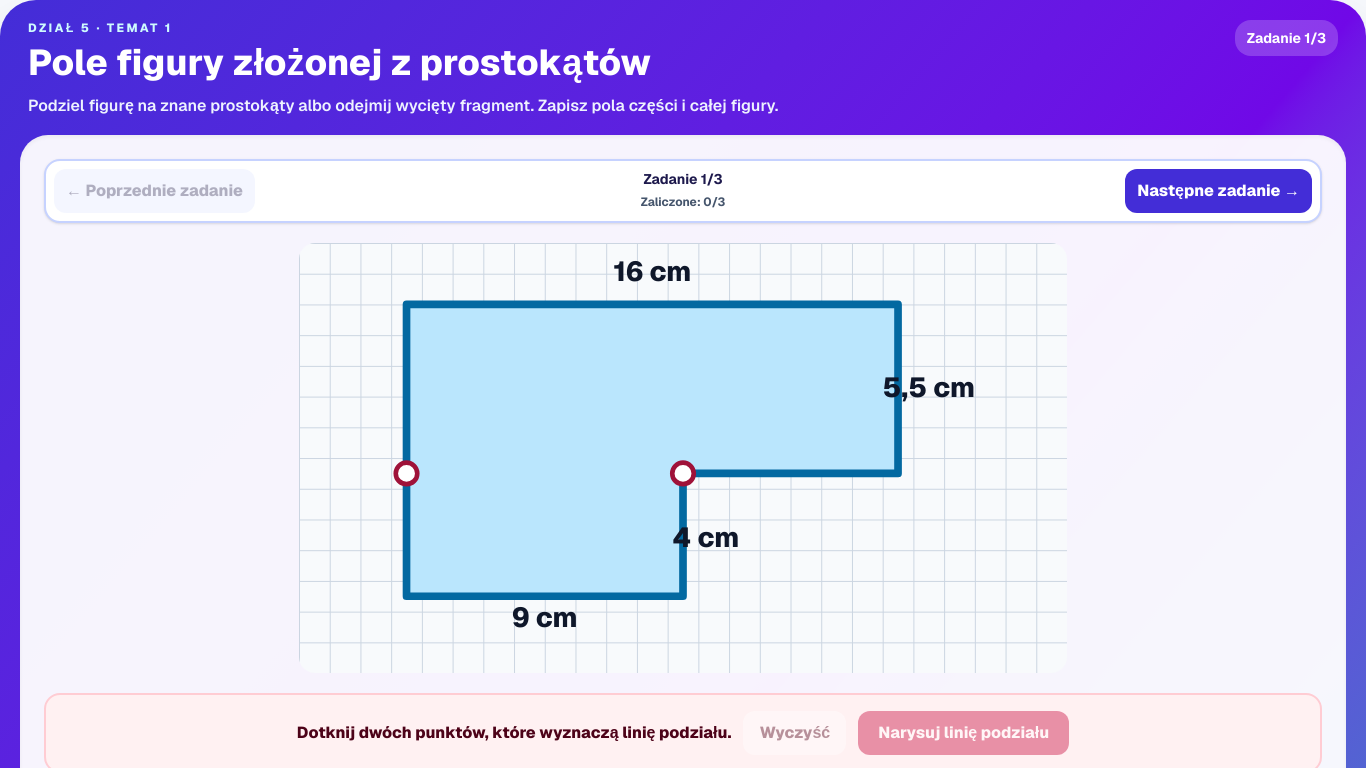
RectangleSquareAreaLab › pokazuje figurę złożoną na wyraźnej kratownicy i jedną serię trzech zadań
Expected: the picture named "Podziel figurę na dwa prostokąty" is shown, [299,243,1067,673]
What coordinates should you click on to do the following:
click the button "Następne zadanie →"
I would click on:
 (1219, 191)
Its box is [1125,169,1312,213].
(page scrolled)
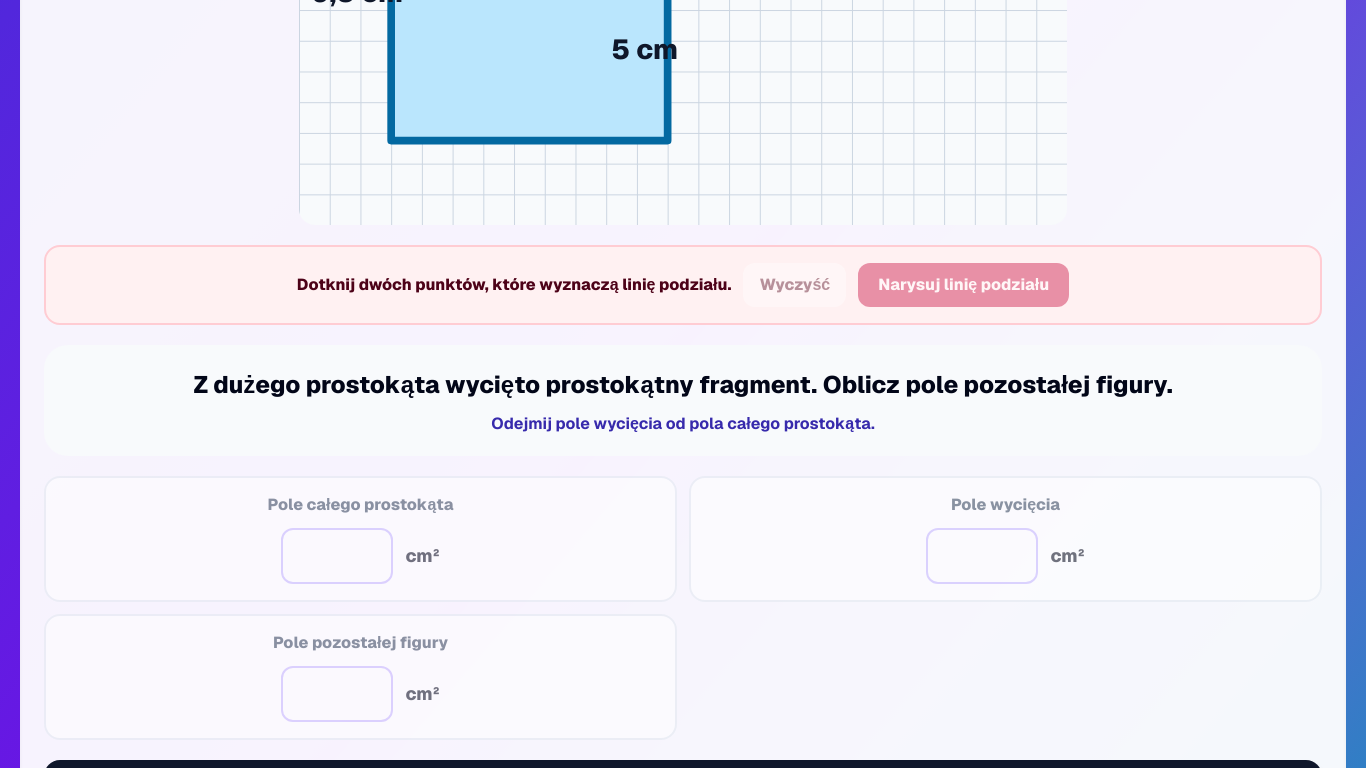
Result: the text "wycięto prostokątny fragment" is shown at [193,369,1173,400]
